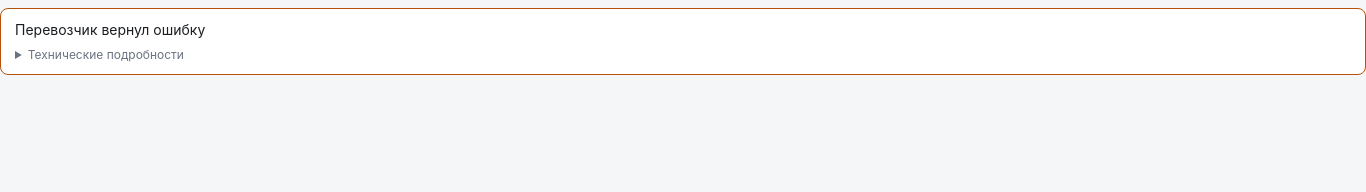
Test: ErrorNote › идентификатор запроса показывается — ради него всё и делалось
Click the heading "Технические подробности" at (106, 54), box left=28, top=47, right=184, bottom=62
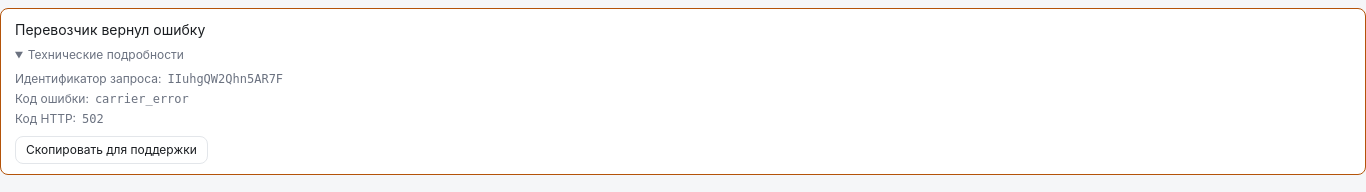
expect the text "IIuhgQW2Qhn5AR7F" is shown: met, box left=168, top=70, right=283, bottom=88
